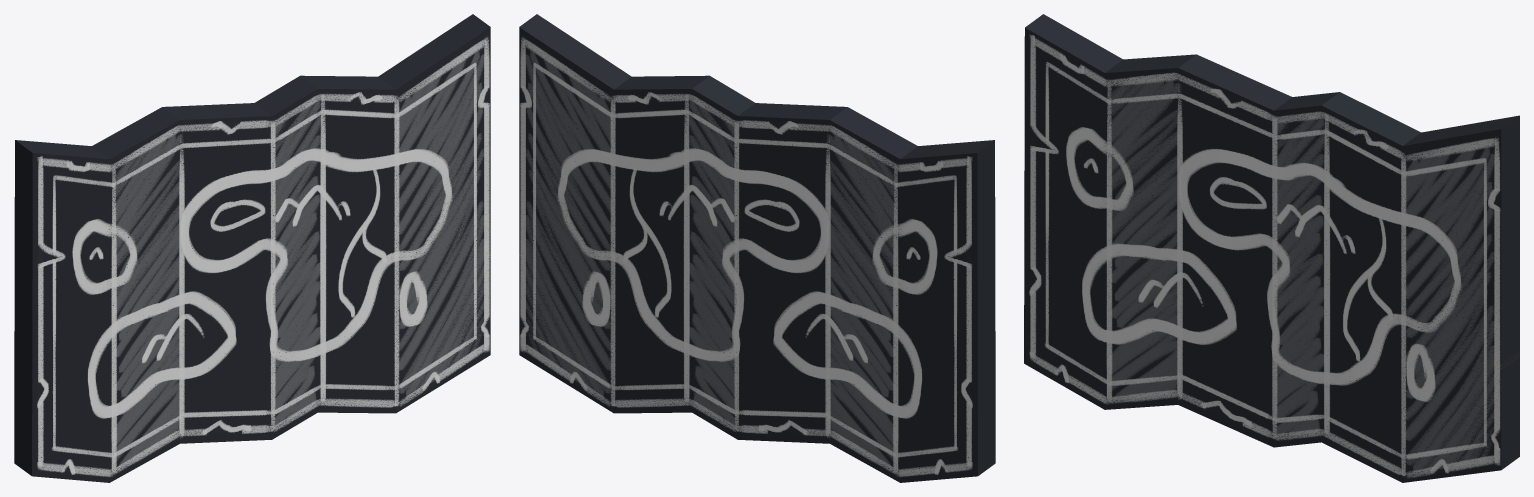
The model's file is Map.fbx.
The picture shows the model from 3 angles, left to right: view 1: azimuth 30°, elevation 25°; view 2: azimuth 150°, elevation 25°; view 3: azimuth 330°, elevation 25°; orthographic projection. The views are drawn at different scales.
Parts seen in each view (by area): view 1: m_Map; view 2: m_Map; view 3: m_Map.
Boxes of the visible parts, box(x1,y1,x2,y2) form: m_Map: box(14, 14, 490, 482); m_Map: box(519, 14, 995, 482); m_Map: box(1024, 14, 1519, 482).
Size of the model in its own units: 1.48 by 1.12 by 0.1.
